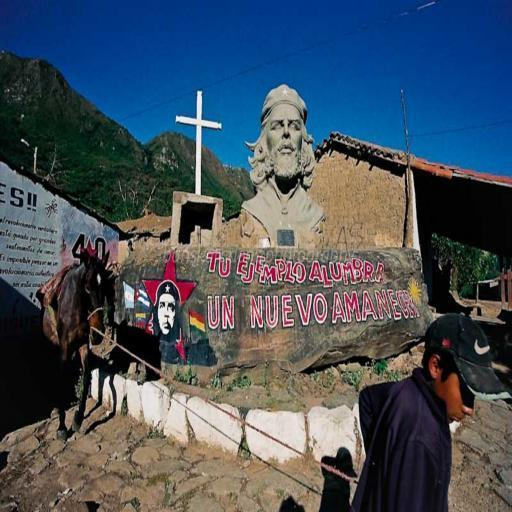horse: (40, 249, 112, 441)
